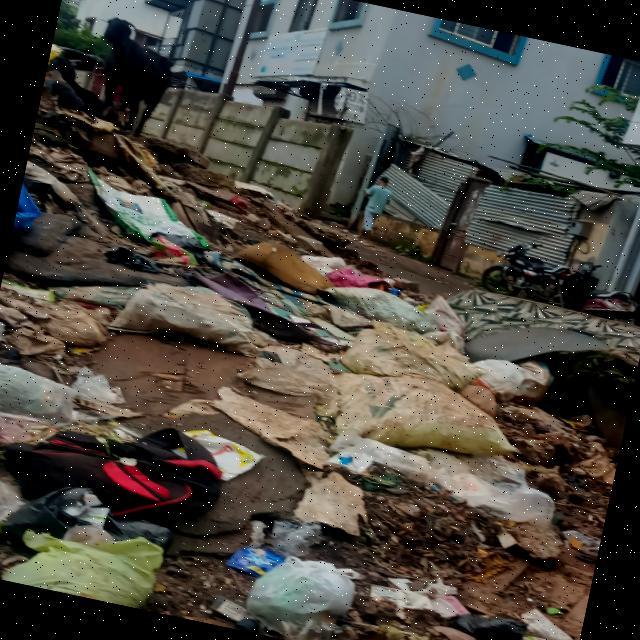garbage: (0, 113, 339, 630), (254, 251, 640, 640)
